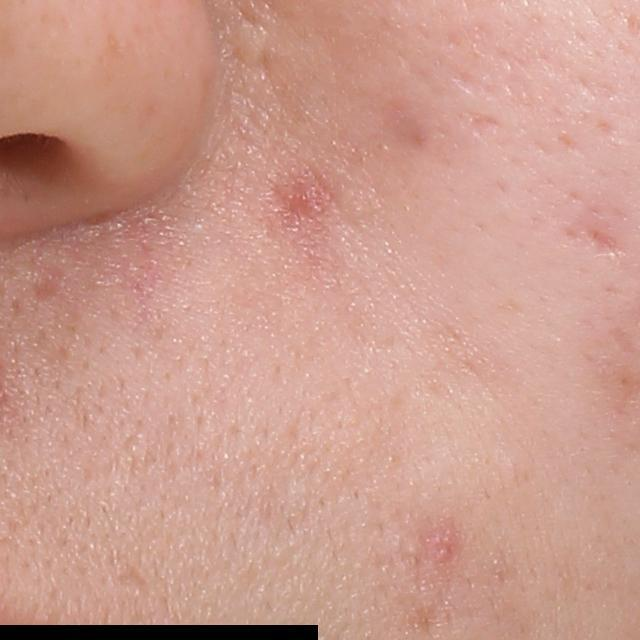atrophic_scar: (577, 225, 628, 269), (609, 324, 640, 355), (468, 112, 495, 135)
papule: (425, 531, 457, 566)
